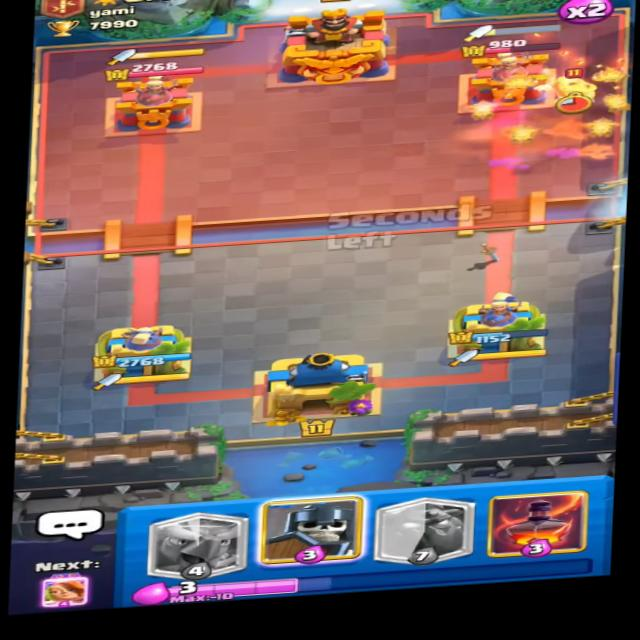knight: (541, 68, 603, 112)
